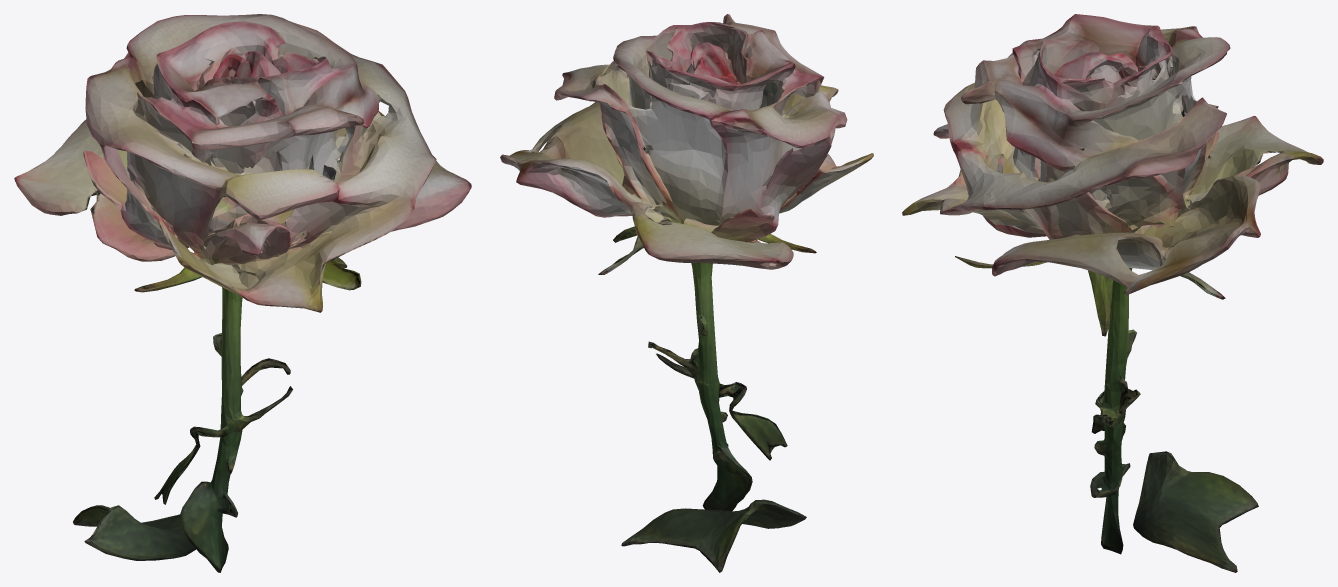
3 renders of one model, left to right at view 1: azimuth 30°, elevation 25°; view 2: azimuth 150°, elevation 25°; view 3: azimuth 270°, elevation 25°, orthographic. The views are drawn at different scales.
Parts seen in each view (by area): view 1: world; view 2: world; view 3: world.
Boxes of the visible parts, x1,y1,x2,y2 form: world: (14,14,471,572); world: (500,14,873,572); world: (902,14,1323,572).
Size of the model in its own units: 0.6115 by 0.8829 by 0.6536.
Materials: 1 (1 with a texture image).
